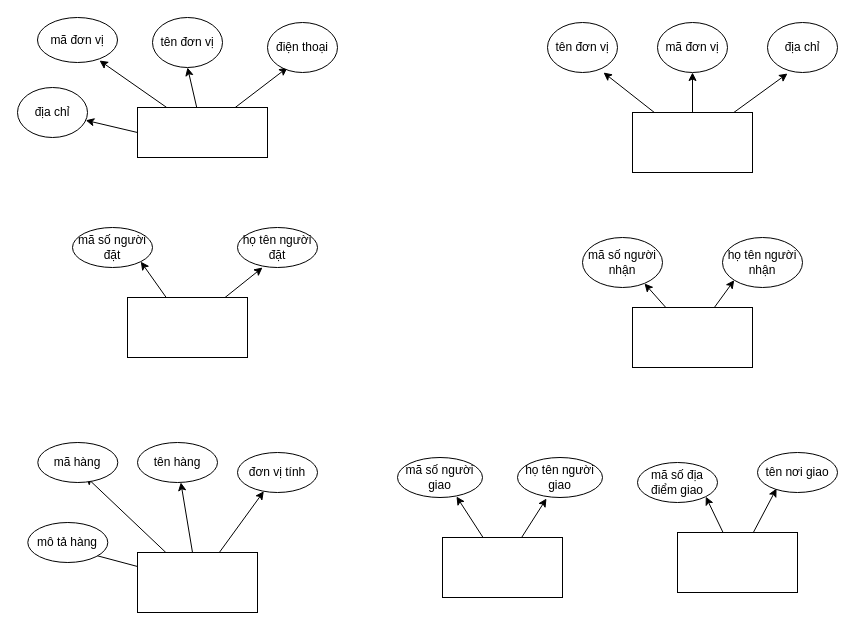
Some shapes in this 855 by 630 pixel diagram are drawn without their labels. The shapes that lost their labels are listed below. From the top down, each one's box as (x1, y1, x2, y2) in pixels, then its label:
(136, 106, 268, 158): Đơn vị đặt hàng
(632, 112, 752, 172): Đơn vị khách hàng
(126, 296, 248, 358): Người đặt
(632, 306, 752, 368): Người nhận
(136, 552, 258, 612): Hàng
(442, 536, 562, 598): Người giao
(676, 532, 798, 592): Nơi giao
